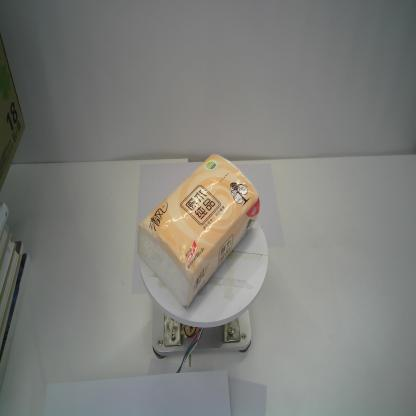Tissue: (136, 151, 262, 310)
